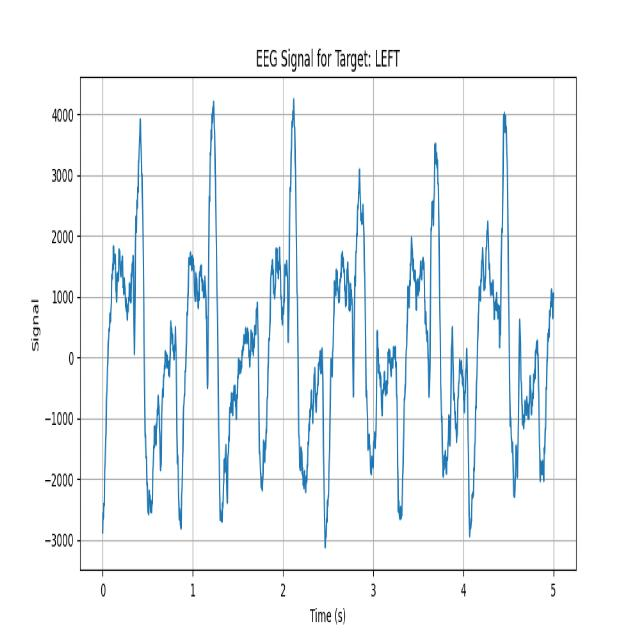LEFT: (169, 93, 248, 549), (455, 81, 530, 553), (382, 80, 454, 541), (314, 83, 385, 534), (102, 111, 170, 551), (249, 88, 315, 541)
